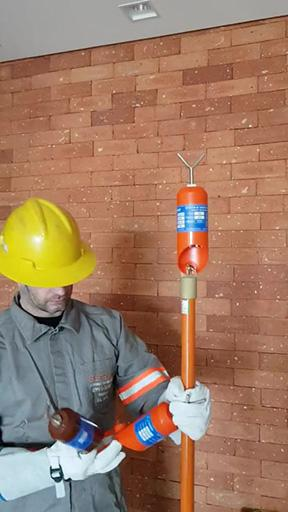Detector_Tensao_Contato: (25, 401, 113, 458), (176, 151, 210, 276)
Vara_Manobra: (181, 273, 199, 512)
